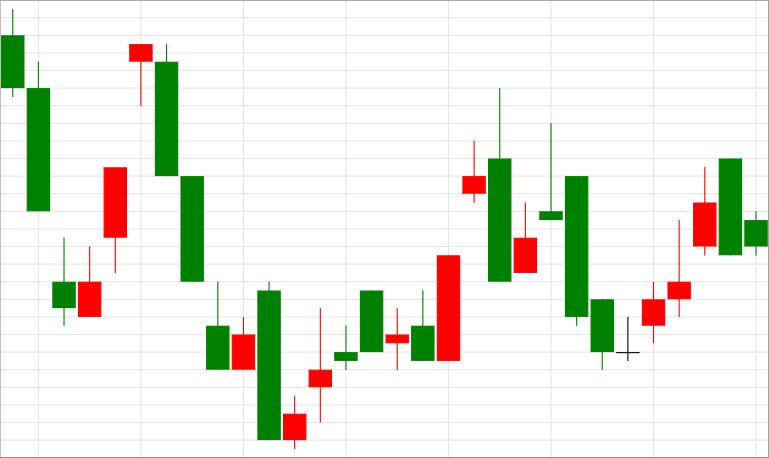morning_star_rise: (463, 87, 665, 371)
three_black_crows_fall: (53, 43, 229, 371)
